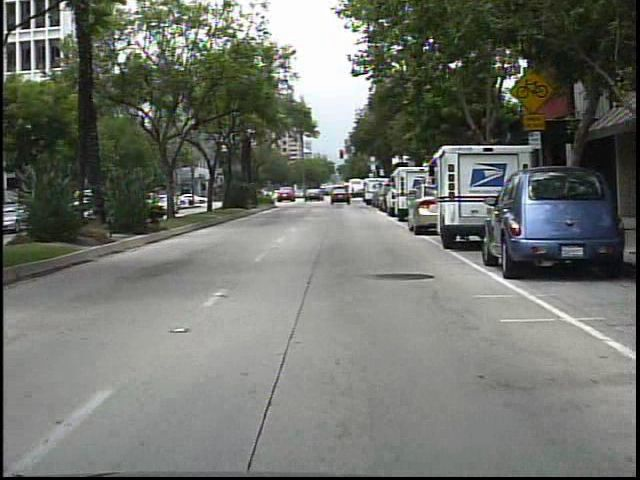person: (351, 183, 358, 203)
